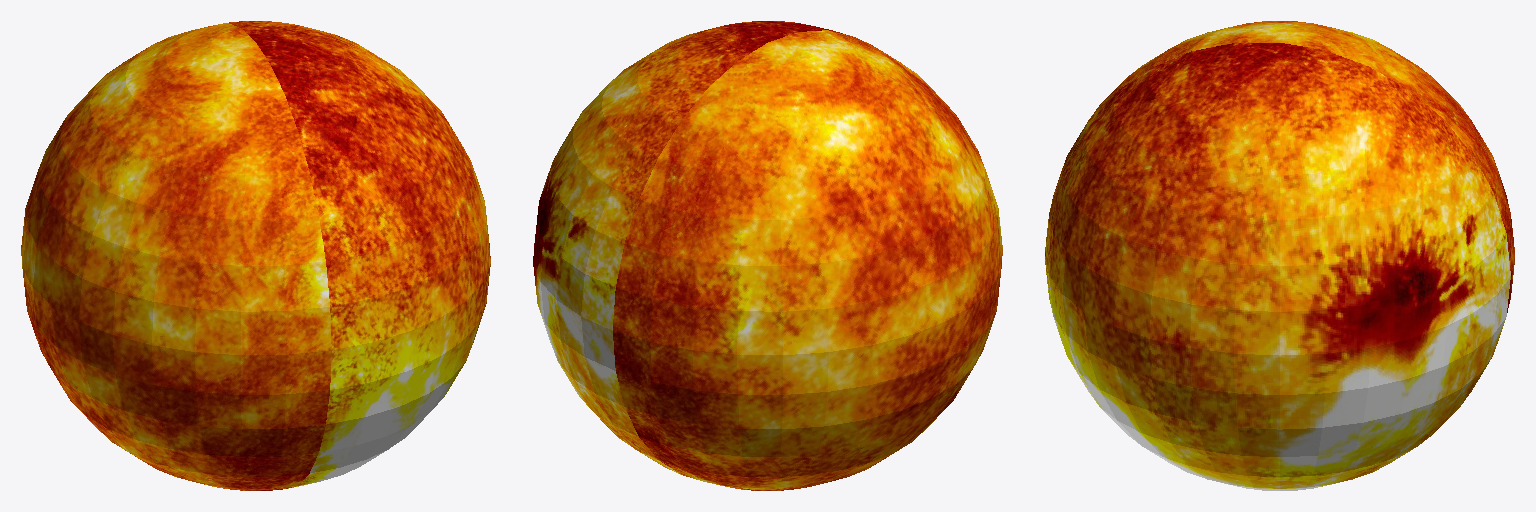
The picture shows the model from 3 angles: view 1: azimuth 30°, elevation 25°; view 2: azimuth 150°, elevation 25°; view 3: azimuth 270°, elevation 25°; orthographic projection.
Parts seen in each view (by area): view 1: Sphere; view 2: Sphere; view 3: Sphere.
Boxes of the visible parts, <box> form: Sphere: <box>21,21,490,490</box>; Sphere: <box>533,21,1002,490</box>; Sphere: <box>1045,21,1514,490</box>.
Size of the model in its own units: 5.23 by 5.23 by 5.23.
1 materials, 1 textured.